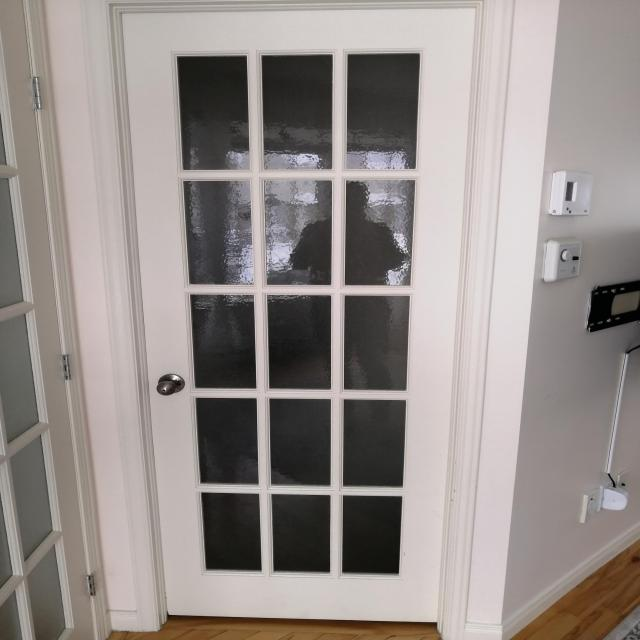door-knob: (157, 374, 185, 395)
